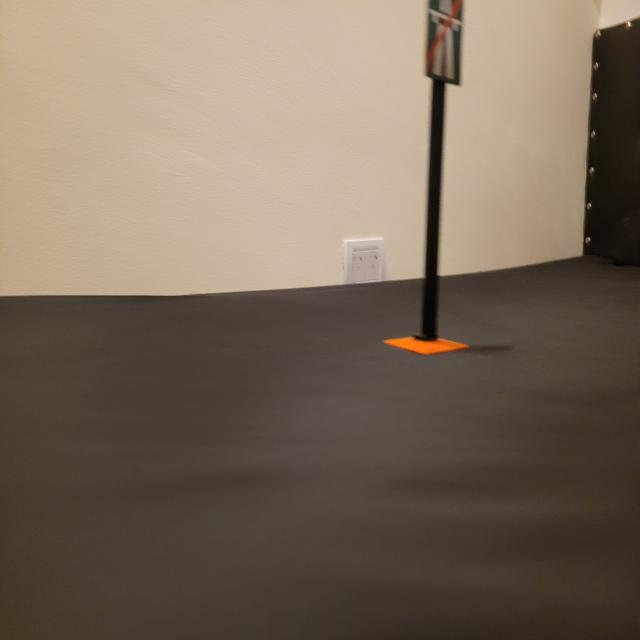highway_exit: (424, 0, 462, 86)
